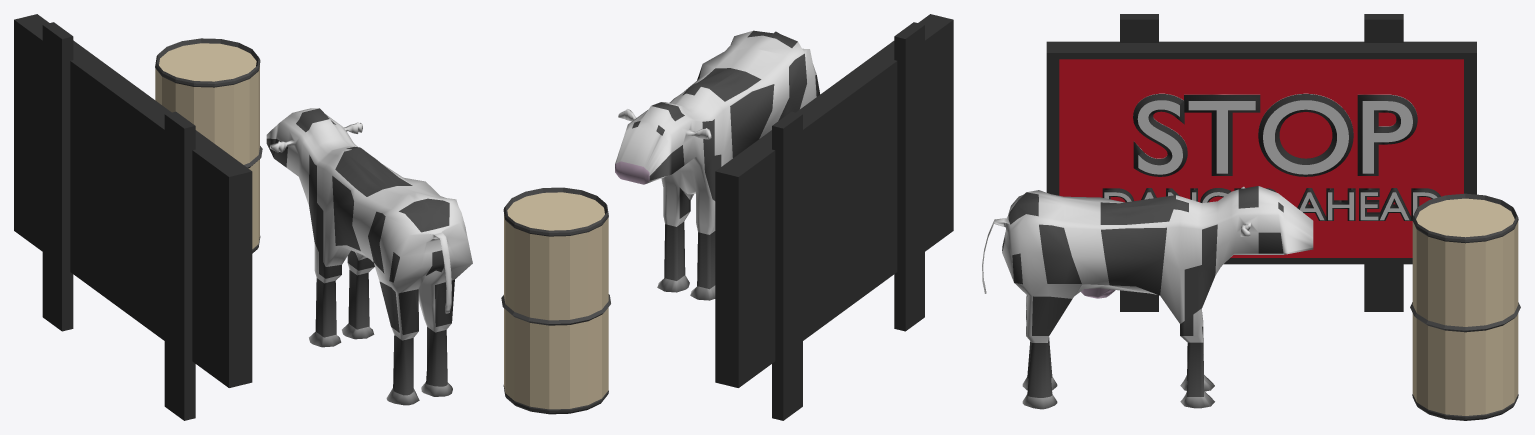
File: Road_Props.fbx
3 renders of one model, left to right at view 1: azimuth 30°, elevation 25°; view 2: azimuth 150°, elevation 25°; view 3: azimuth 270°, elevation 25°, orthographic.
Parts seen in each view (by area): view 1: Cube.001, Cube, Cylinder; view 2: Cube.001, Cube, Cylinder; view 3: Cube.001, Cube, Cylinder.
Boxes of the visible parts, x1,y1,x2,y2 form: Cube.001: (14,14,252,420); Cube: (266,108,472,405); Cylinder: (155,38,262,253); Cube.001: (715,14,953,420); Cube: (615,30,820,300); Cylinder: (501,187,610,414); Cube.001: (1046,14,1476,311); Cube: (982,186,1313,409); Cylinder: (1410,193,1520,420).
Size of the model in its own units: 692 by 792 by 1322.
